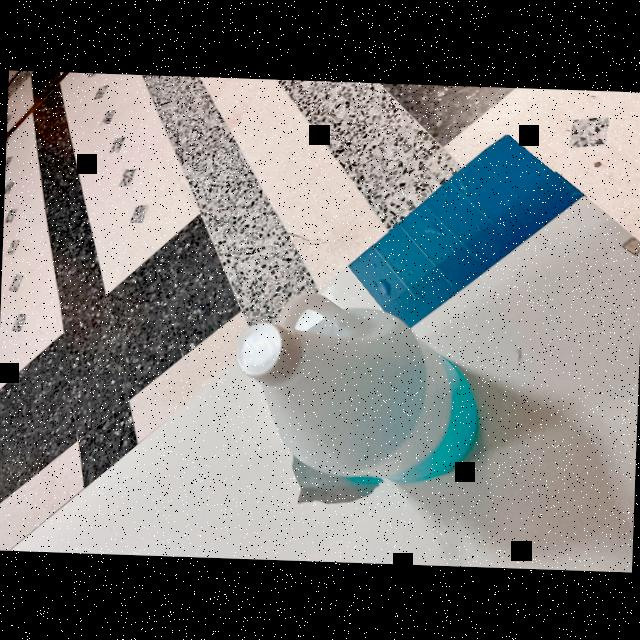chemical_plastic_gallon: (230, 292, 487, 484)
